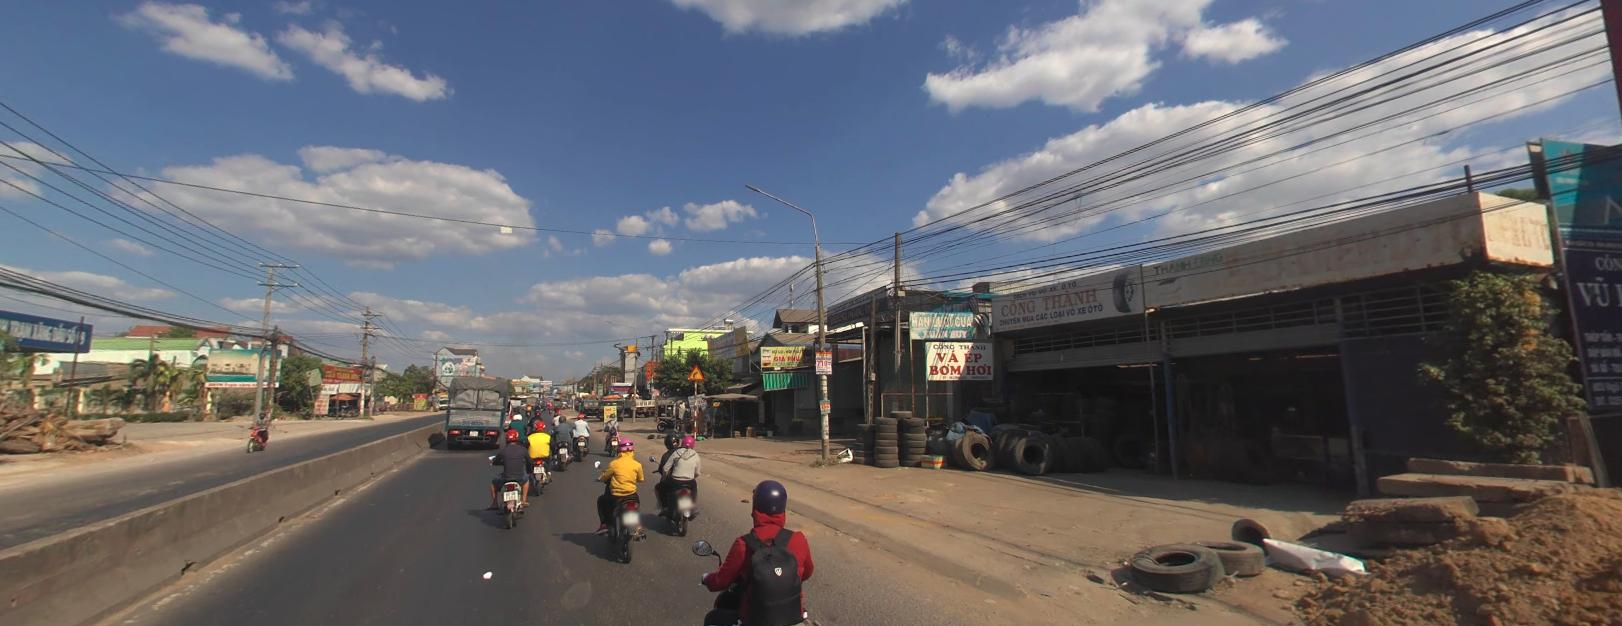Nguy hiem: (687, 362, 704, 379)
